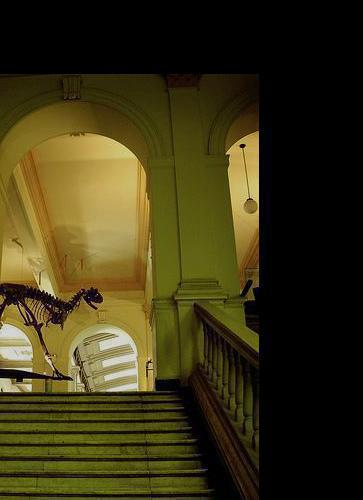Escaleras: (0, 368, 192, 500)
